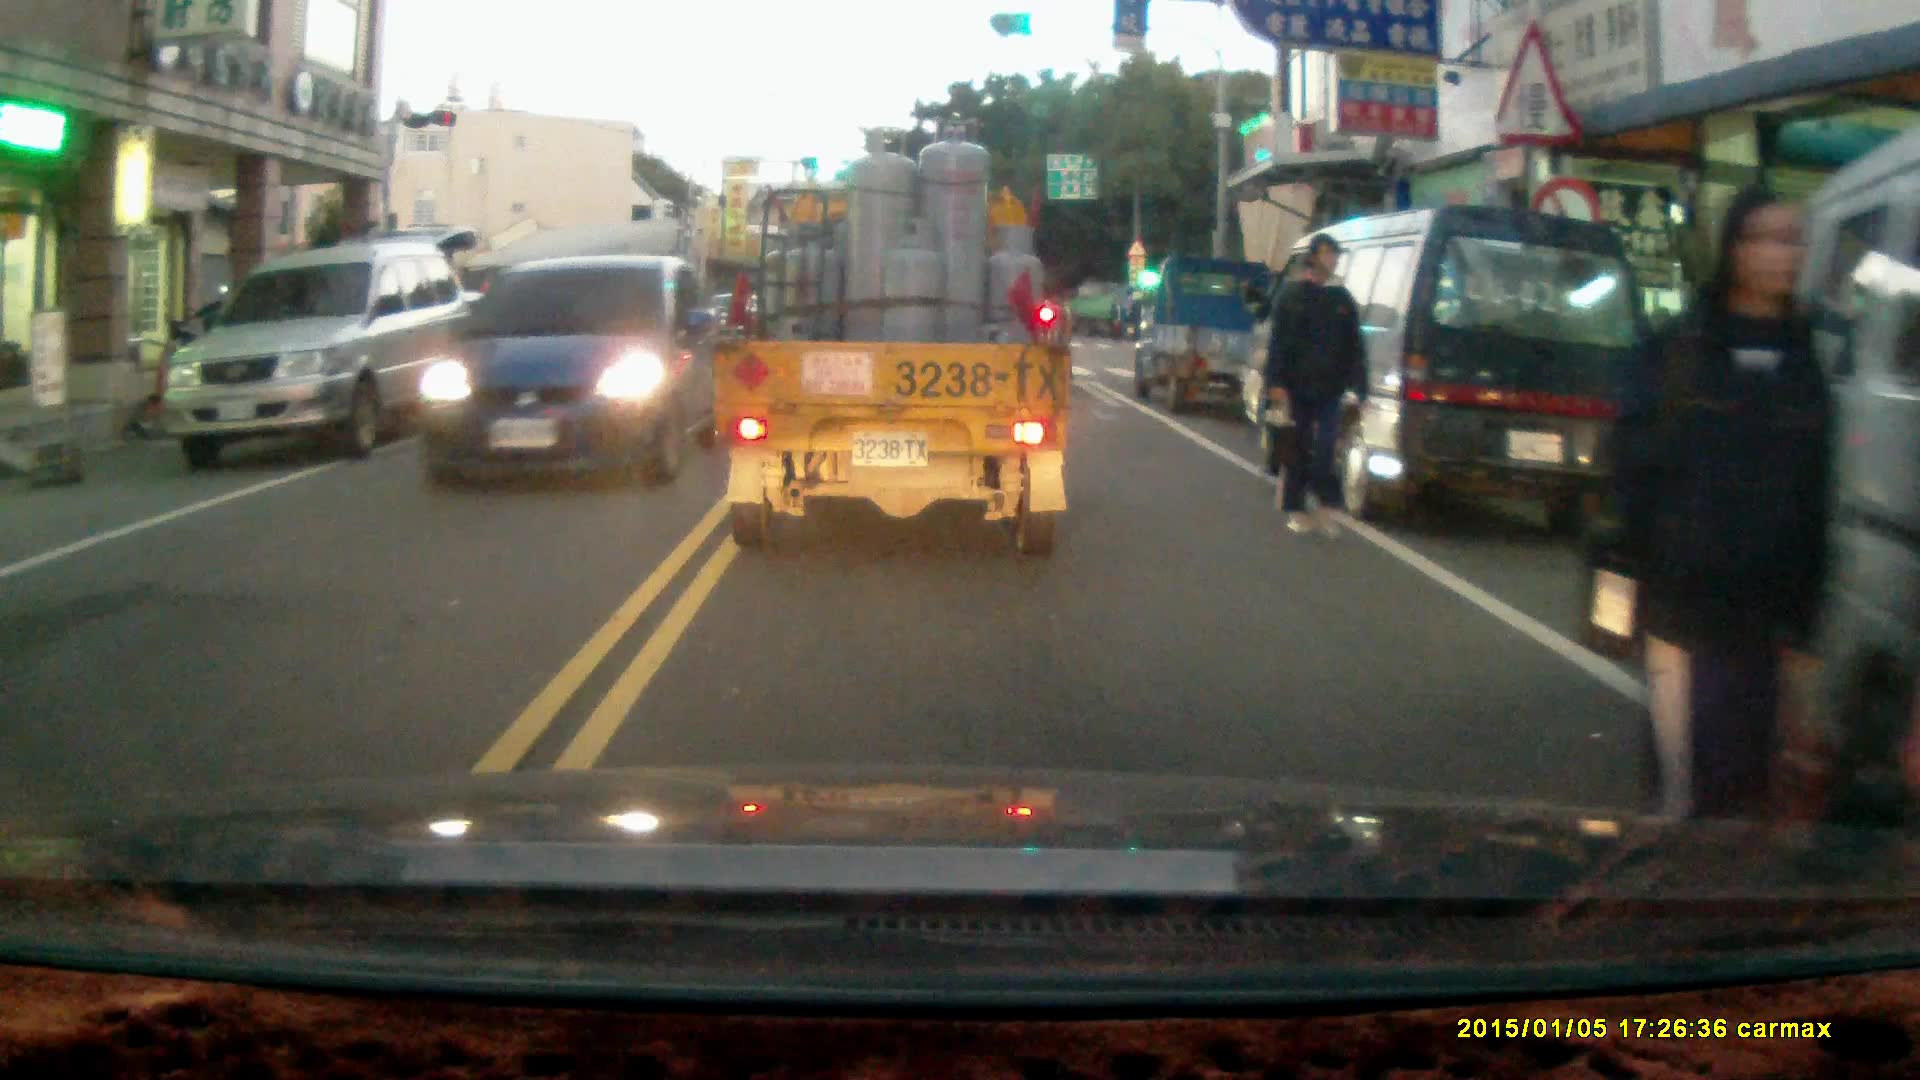pedestrian: (1619, 182, 1833, 885), (1267, 234, 1376, 547)
vehicle: (712, 119, 1075, 545), (1246, 201, 1655, 541), (420, 254, 740, 486), (166, 242, 478, 467), (384, 289, 576, 416), (1124, 248, 1265, 406)
